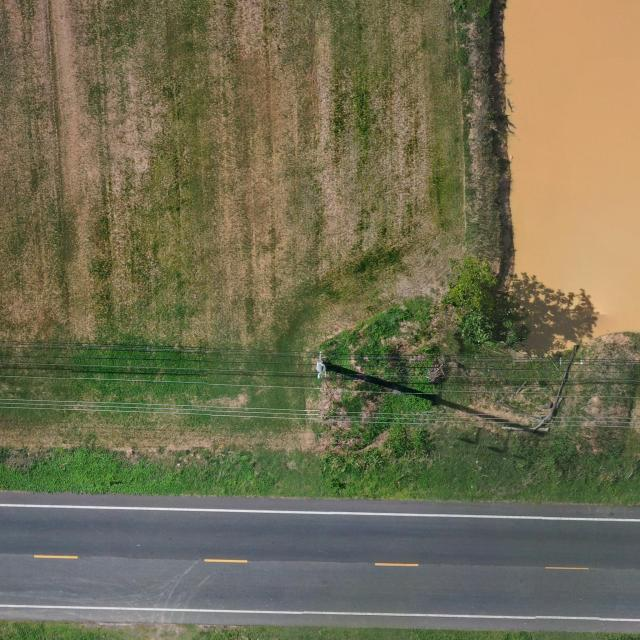tree: (437, 256, 532, 344)
